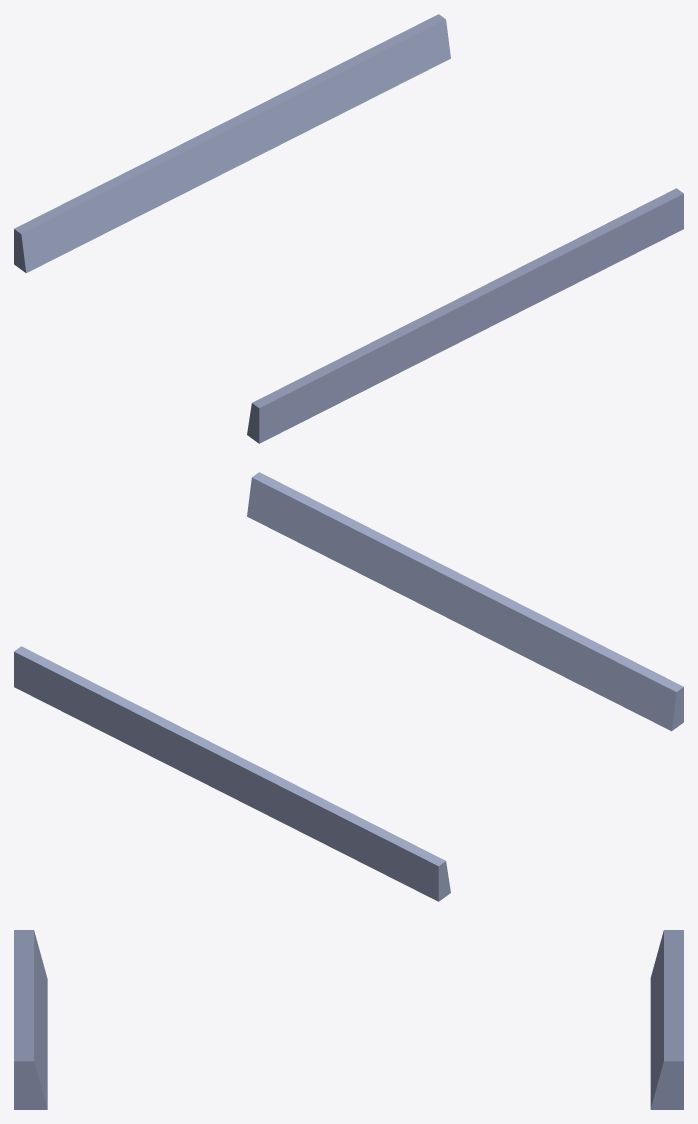
File: road-slant-barrier.glb
3 views of the same model, one above another, from view 1: azimuth 30°, elevation 25°; view 2: azimuth 150°, elevation 25°; view 3: azimuth 270°, elevation 25° (orthographic). The views are drawn at different scales.
Visible parts, largest first — view 1: road-slant-barrier; view 2: road-slant-barrier; view 3: road-slant-barrier.
Boxes of the visible parts, x1,y1,x2,y2 form: road-slant-barrier: (14,14,683,443); road-slant-barrier: (14,472,683,901); road-slant-barrier: (14,930,683,1109).
Bounding box in the file's own units: 1 × 0.33 × 1.
1 material, 1 textured.
